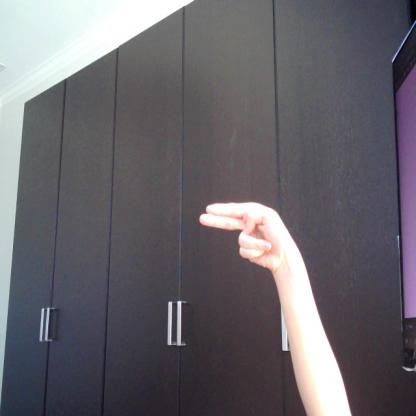H: (198, 200, 304, 274)
